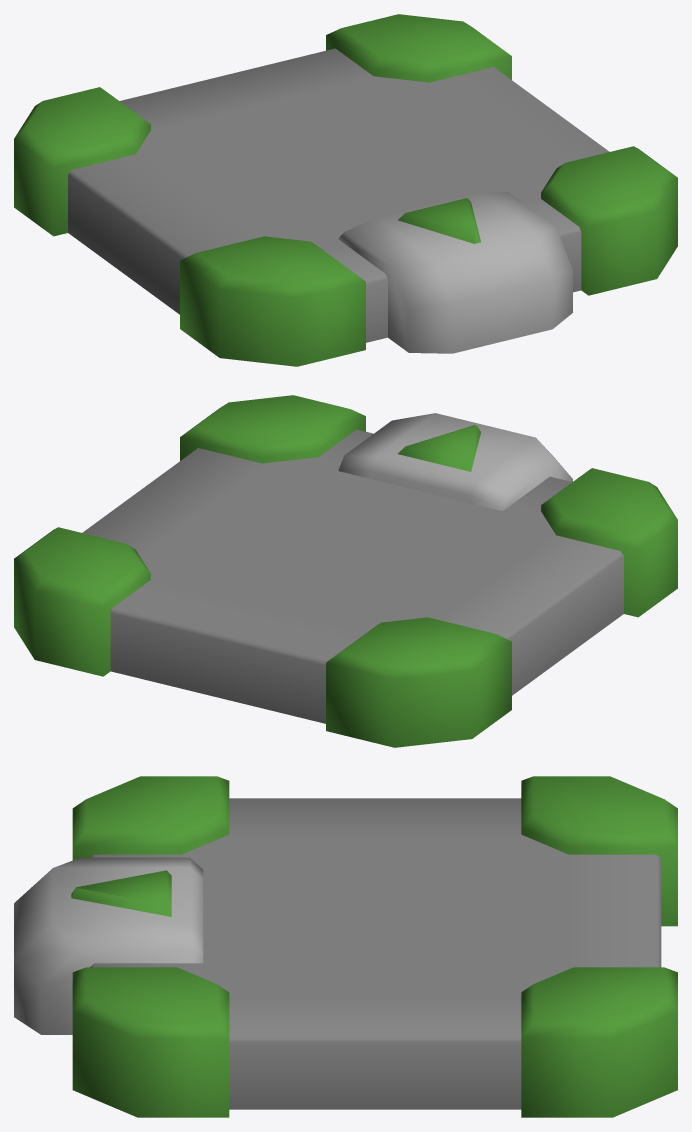
File: ForestGreenPieceBasePlate.glb
3 views of the same model, one above another, from view 1: azimuth 30°, elevation 25°; view 2: azimuth 150°, elevation 25°; view 3: azimuth 270°, elevation 25° (orthographic). The views are drawn at different scales.
Parts seen in each view (by area): view 1: Peice Base - Forest Green; view 2: Peice Base - Forest Green; view 3: Peice Base - Forest Green.
Part boxes in pixels (x1,y1,x2,y2): Peice Base - Forest Green: (14,14,677,366); Peice Base - Forest Green: (14,395,677,747); Peice Base - Forest Green: (14,776,677,1117).
Size of the model in its own units: 0.8785 by 0.1605 by 0.9559.
